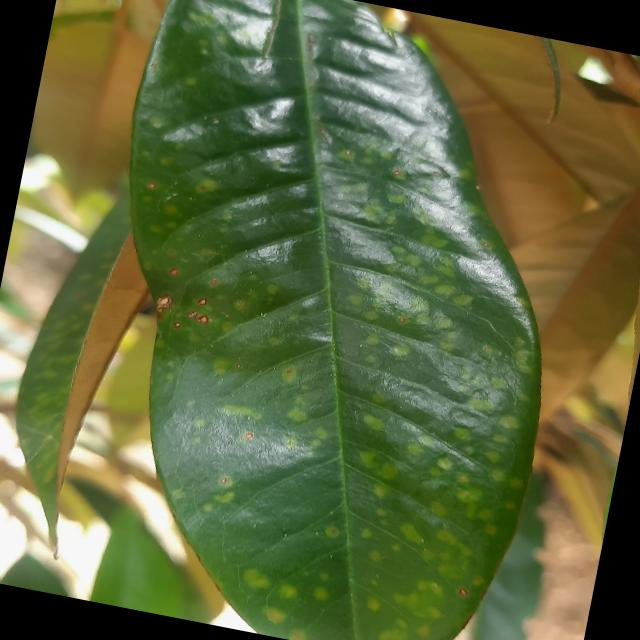Leaf Spot: (35, 0, 618, 639)
